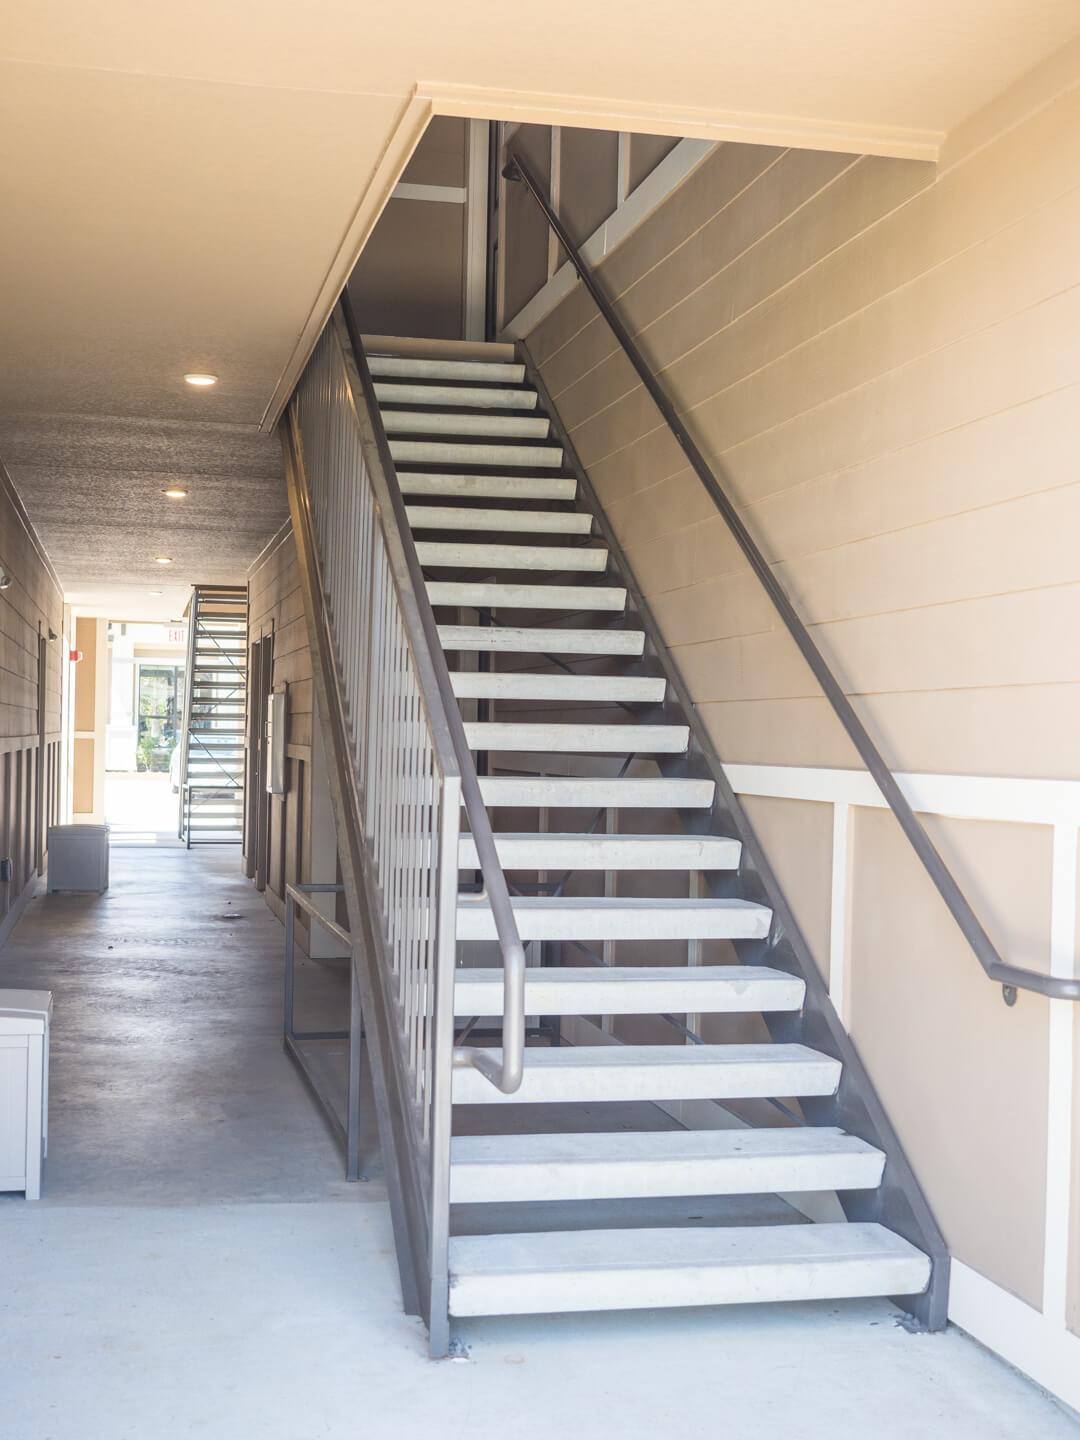Bench: (332, 314, 923, 1354)
